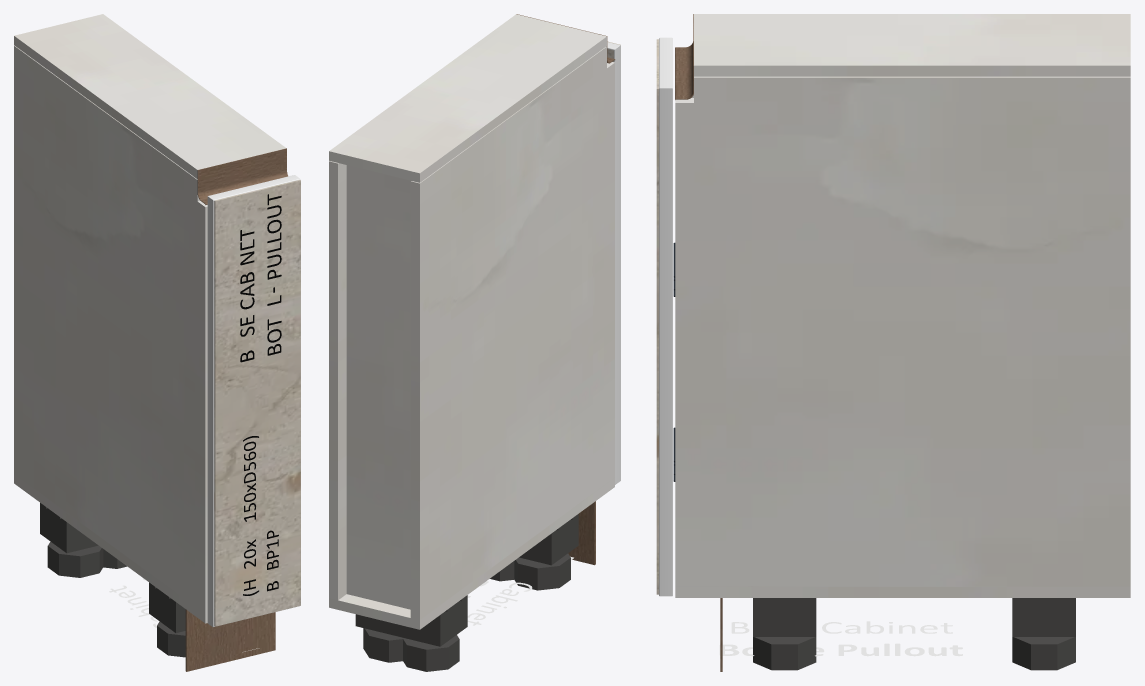
Rendered from BCBP1PS_CJ (H720xW150xD560).glb.
3 views of the same model, side by side, from view 1: azimuth 30°, elevation 25°; view 2: azimuth 150°, elevation 25°; view 3: azimuth 270°, elevation 25° (orthographic). The views are drawn at different scales.
Size of what is drawn, in the model's own units: 0.15 by 0.82 by 0.5898.
9 materials, 3 textured.
